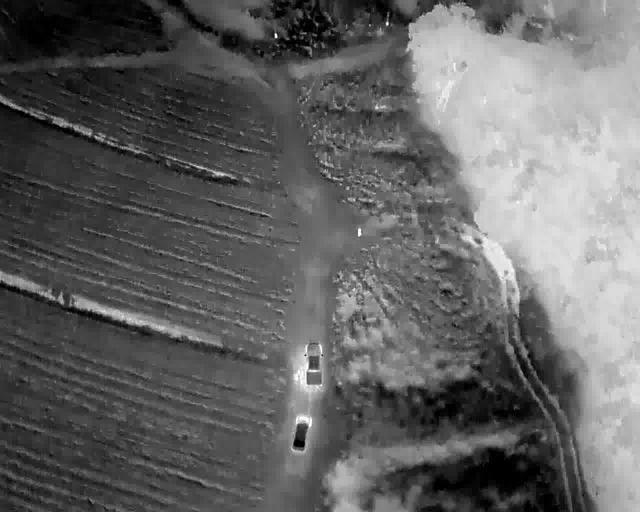car: (304, 340, 324, 387), (293, 414, 309, 453)
person: (357, 227, 362, 236), (293, 372, 298, 381)
